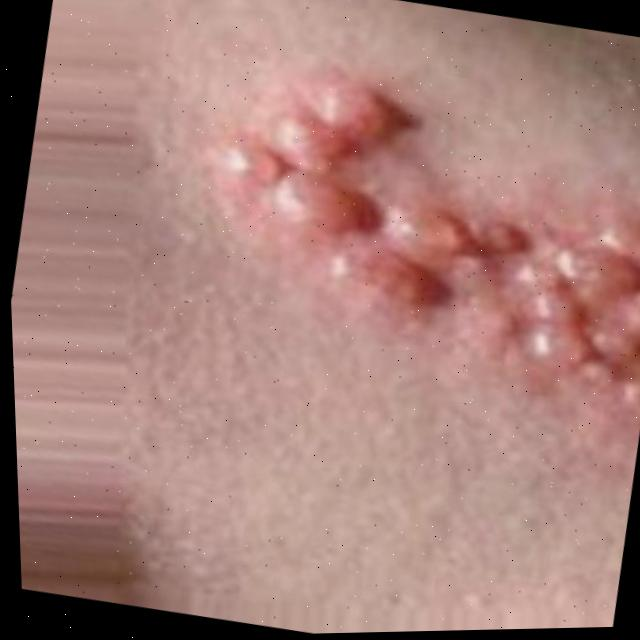Shingles: (166, 55, 640, 424)
